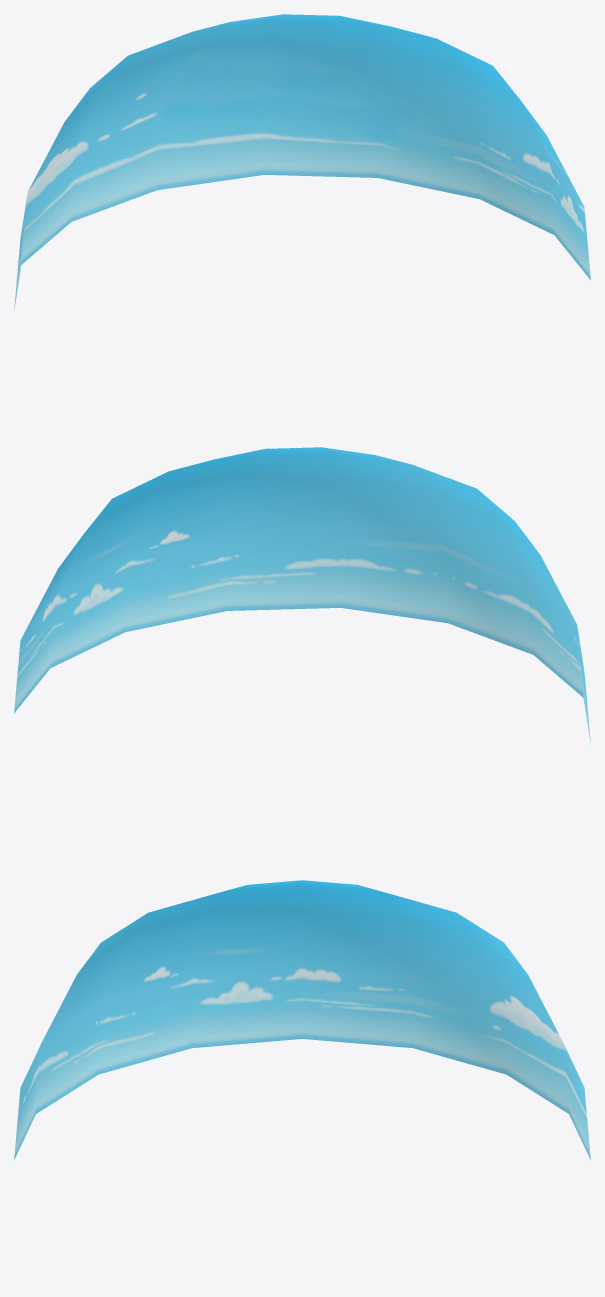
The model's file is skybox.gltf.
The picture shows the model from 3 angles, top to bottom: view 1: azimuth 30°, elevation 25°; view 2: azimuth 150°, elevation 25°; view 3: azimuth 270°, elevation 25°; orthographic projection.
Parts seen in each view (by area): view 1: SkyboxMesh; view 2: SkyboxMesh; view 3: SkyboxMesh.
Part boxes in pixels (x1,y1,x2,y2): SkyboxMesh: [14, 14, 590, 311]; SkyboxMesh: [14, 447, 590, 744]; SkyboxMesh: [14, 880, 590, 1159].
Bounding box in the file's own units: 2 × 0.9441 × 2.
1 material, 1 textured.
